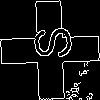S: (25, 25, 72, 61)
